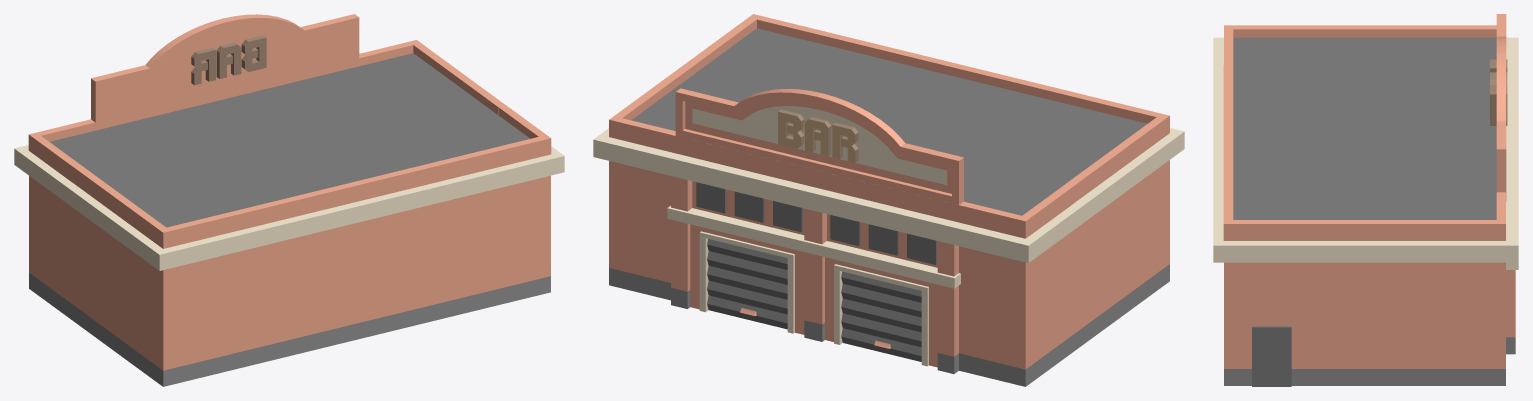
File: bar.fbx
The picture shows the model from 3 angles, left to right: view 1: azimuth 30°, elevation 25°; view 2: azimuth 150°, elevation 25°; view 3: azimuth 270°, elevation 25°; orthographic projection. The views are drawn at different scales.
Parts seen in each view (by area): view 1: polySurface3; view 2: polySurface3; view 3: polySurface3.
Boxes of the visible parts, x1,y1,x2,y2 form: polySurface3: (14, 14, 564, 386); polySurface3: (593, 14, 1184, 386); polySurface3: (1213, 14, 1518, 386).
Size of the model in its own units: 838 by 440 by 520.
